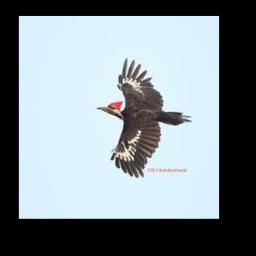Woodpecker: (98, 57, 193, 177)
